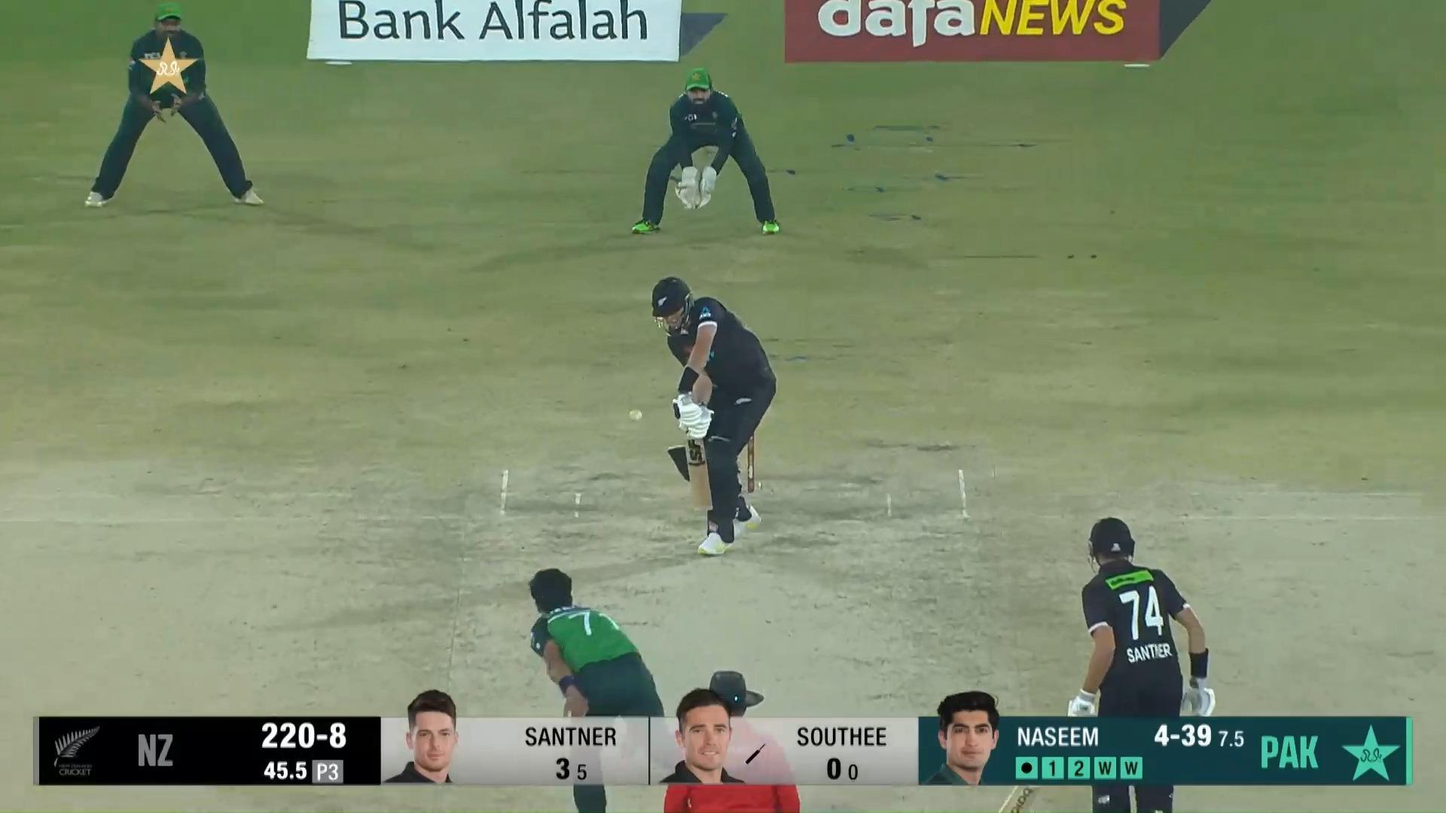BM 1: (652, 275, 777, 557)
BO: (527, 565, 672, 813)
